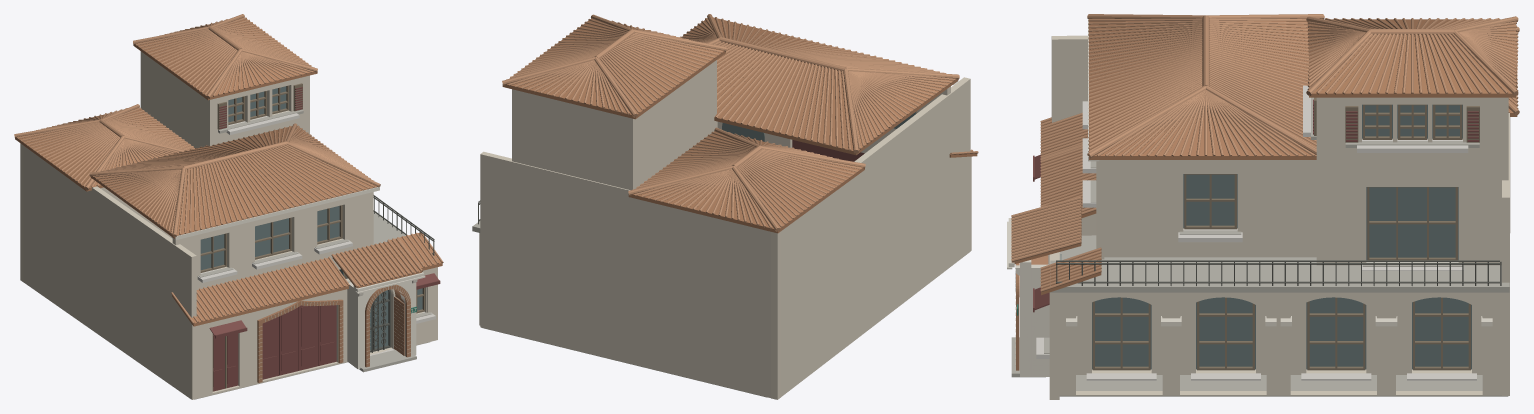
File: changning-xinhua-lane-329-no17-web.glb
The picture shows the model from 3 angles, left to right: view 1: azimuth 30°, elevation 25°; view 2: azimuth 150°, elevation 25°; view 3: azimuth 270°, elevation 25°; orthographic projection. The views are drawn at different scales.
Parts seen in each view (by area): view 1: 新华路329弄17号住宅; view 2: 新华路329弄17号住宅; view 3: 新华路329弄17号住宅.
Boxes of the visible parts, x1,y1,x2,y2 form: 新华路329弄17号住宅: (14, 14, 443, 399); 新华路329弄17号住宅: (472, 14, 978, 399); 新华路329弄17号住宅: (1007, 14, 1519, 399).
Size of the model in its own units: 12.18 by 10.32 by 15.1.
